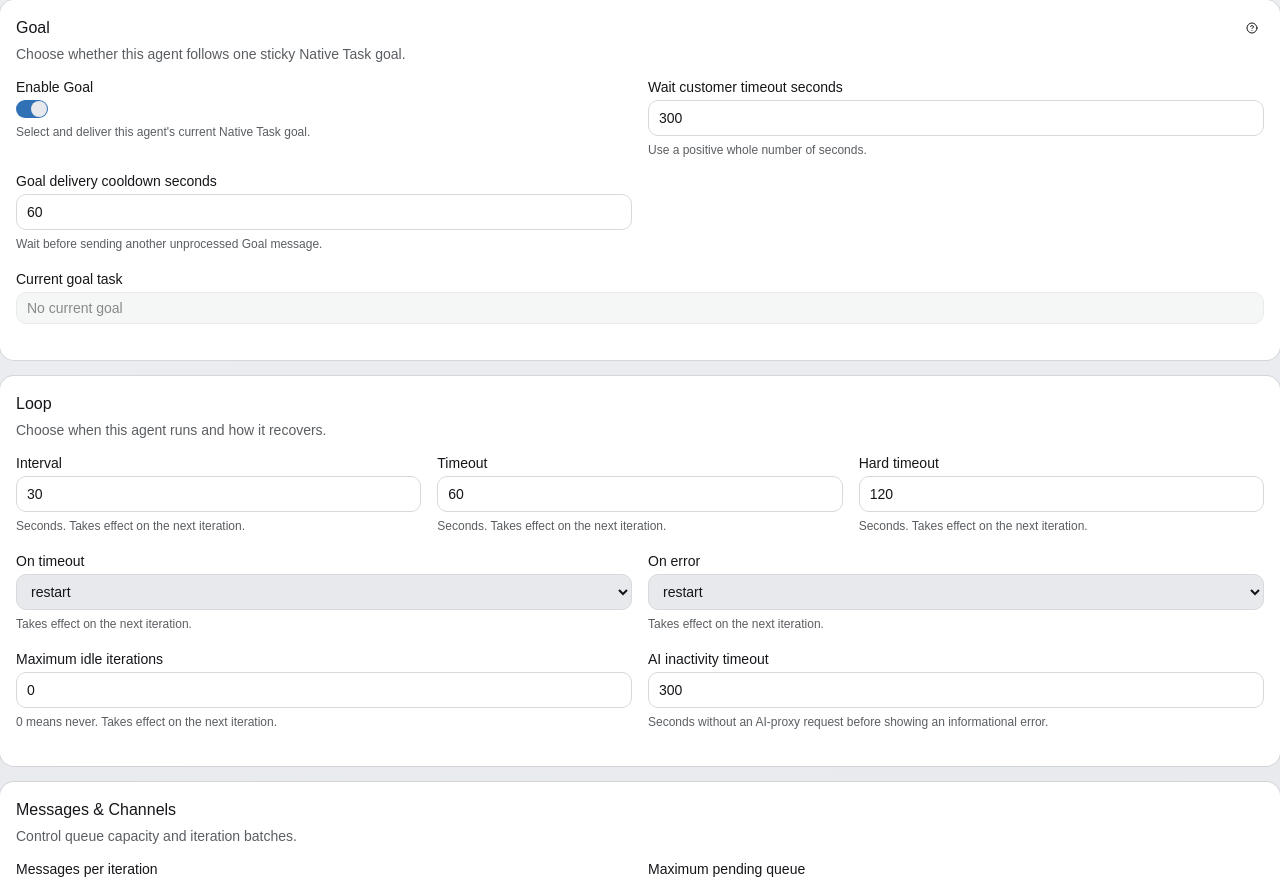
keeps only the failed Goal field dirty after the second save fails
Step 1. Click the switch named "Enable Goal" → (32, 109), box [16,100,48,118]
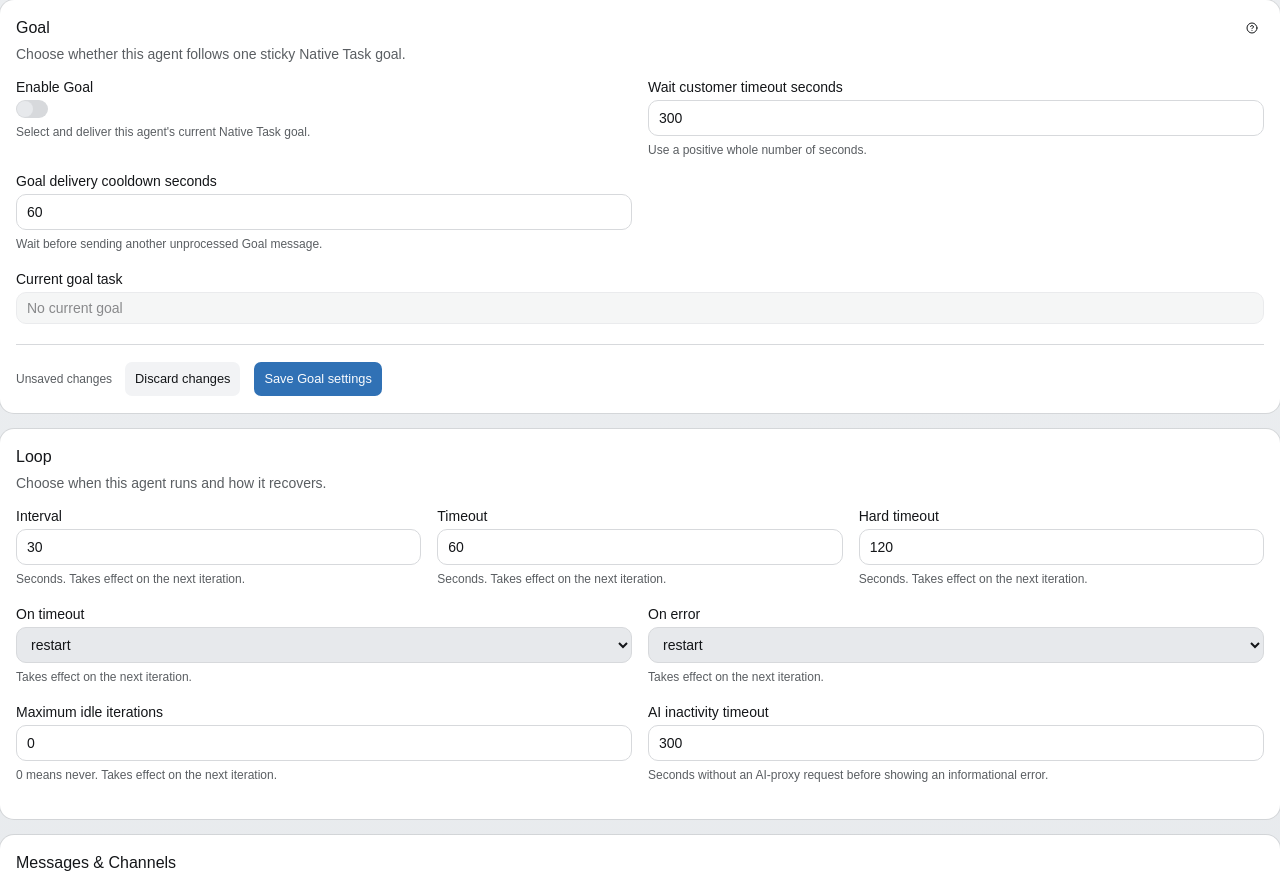
Step 2. Replace the text in the number field labelled "Wait customer timeout seconds" with "120" → (956, 118), box [648,100,1264,136]
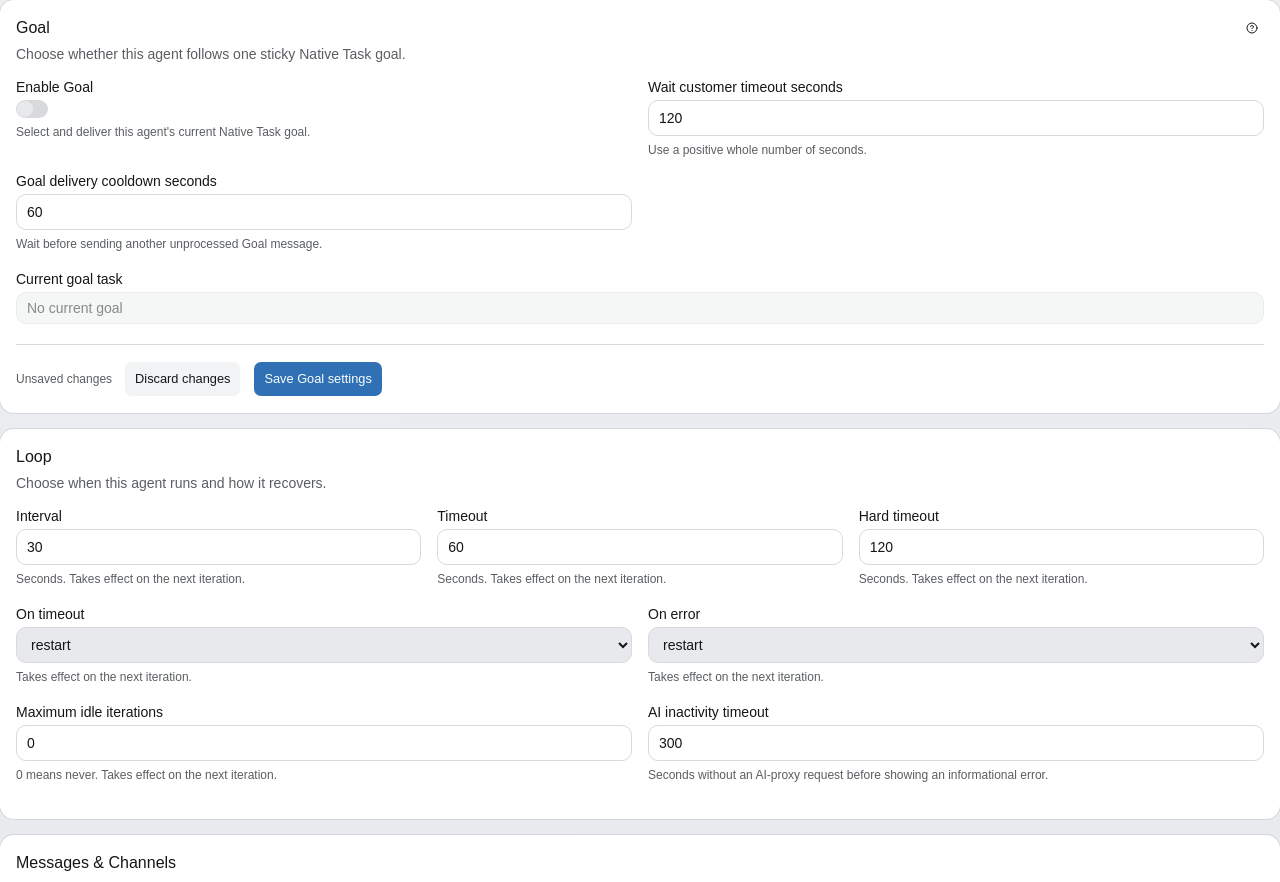
Step 3. Click the button "Save Goal settings" → (318, 379), box [253,361,383,397]
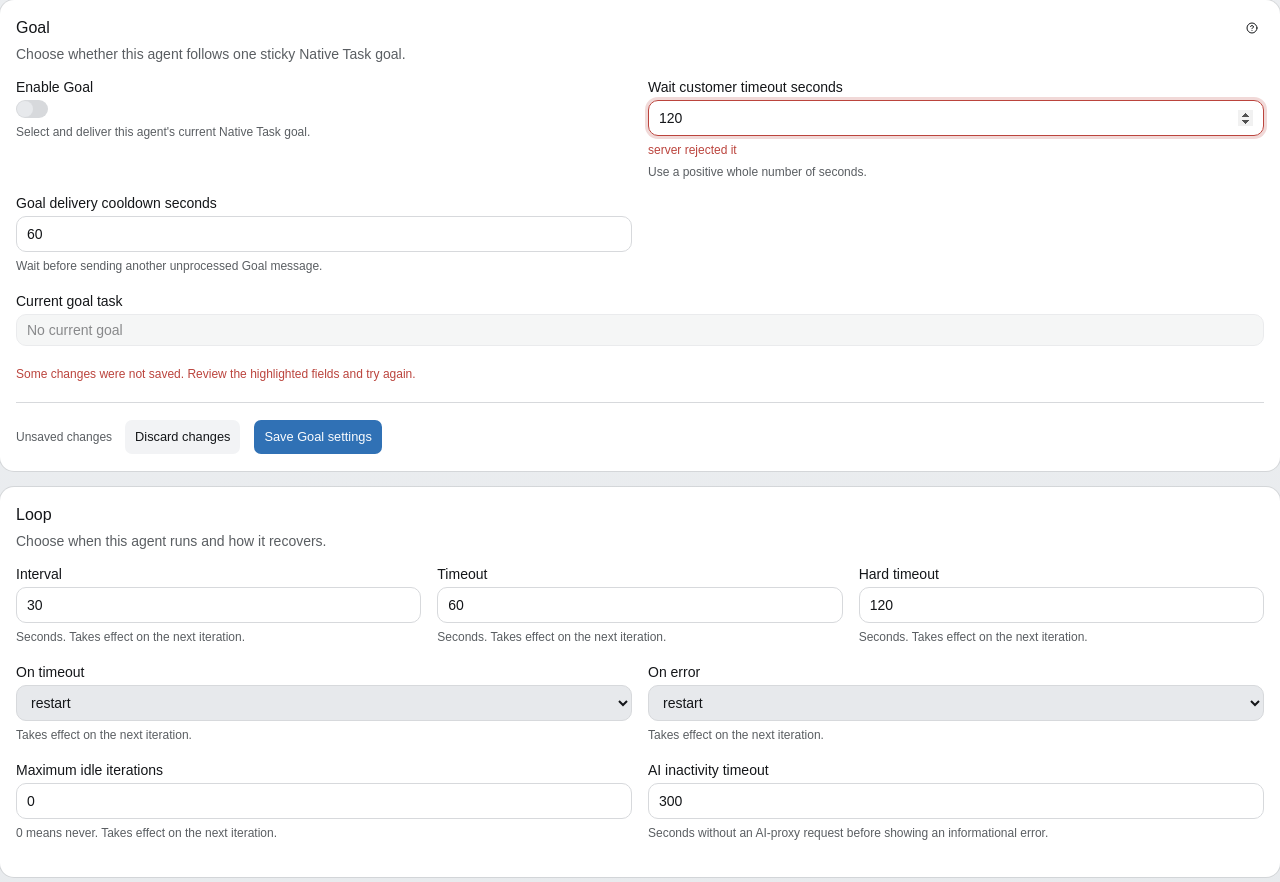
Result: the text "Some changes were not saved. Review the highlighted fields and try again." is shown at [16,367,416,381]
Step 4. Replace the text in the number field labelled "Wait customer timeout seconds" with "300" → (956, 118), box [648,100,1264,136]
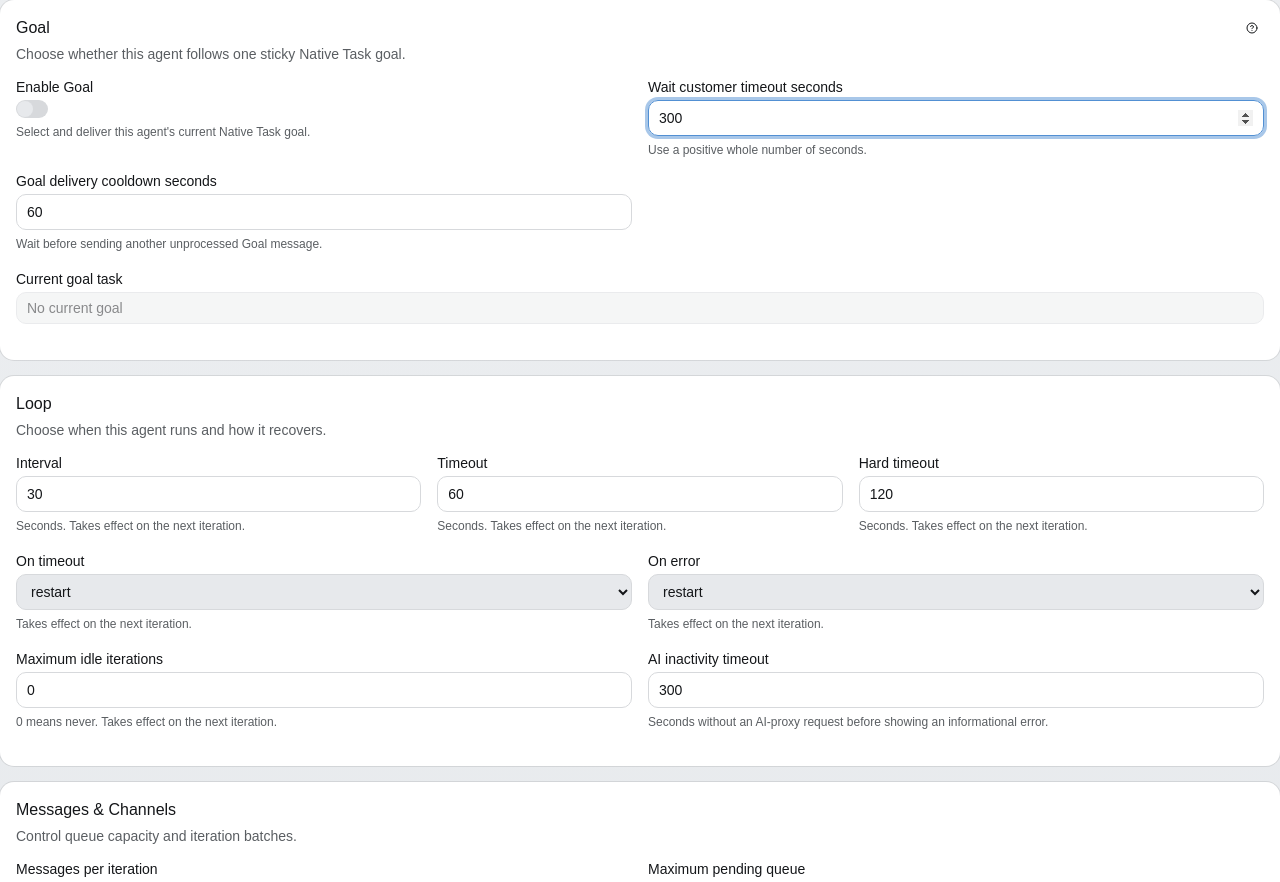
Result: the button "Save Goal settings" is gone
